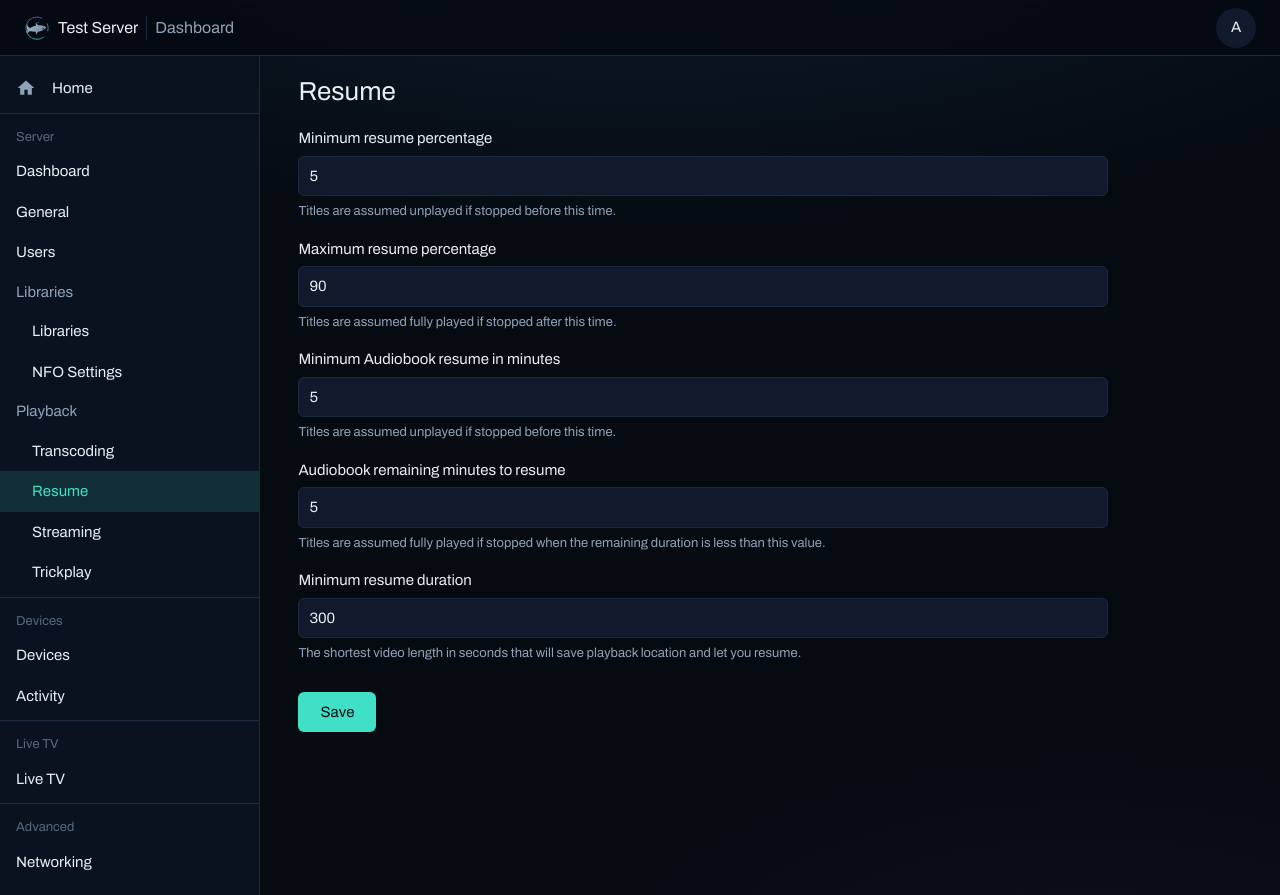
resume, streaming, trickplay › resume writes its fields into the stored server configuration
Replace the text in the number field labelled "Maximum resume percentage" with "95" at (703, 286), box [298,266,1108,306]
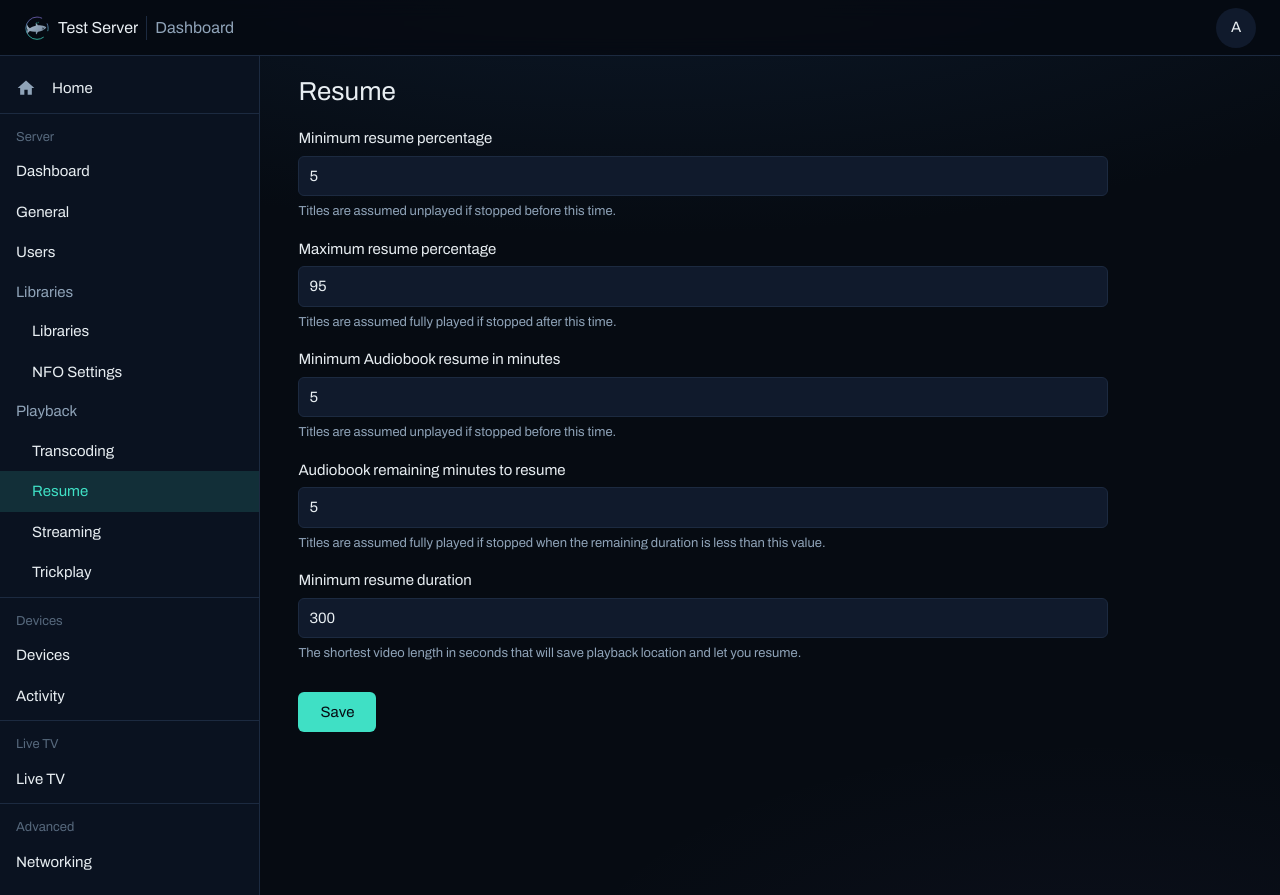
Click the button "Save" at (337, 712), box [298,692,376,732]
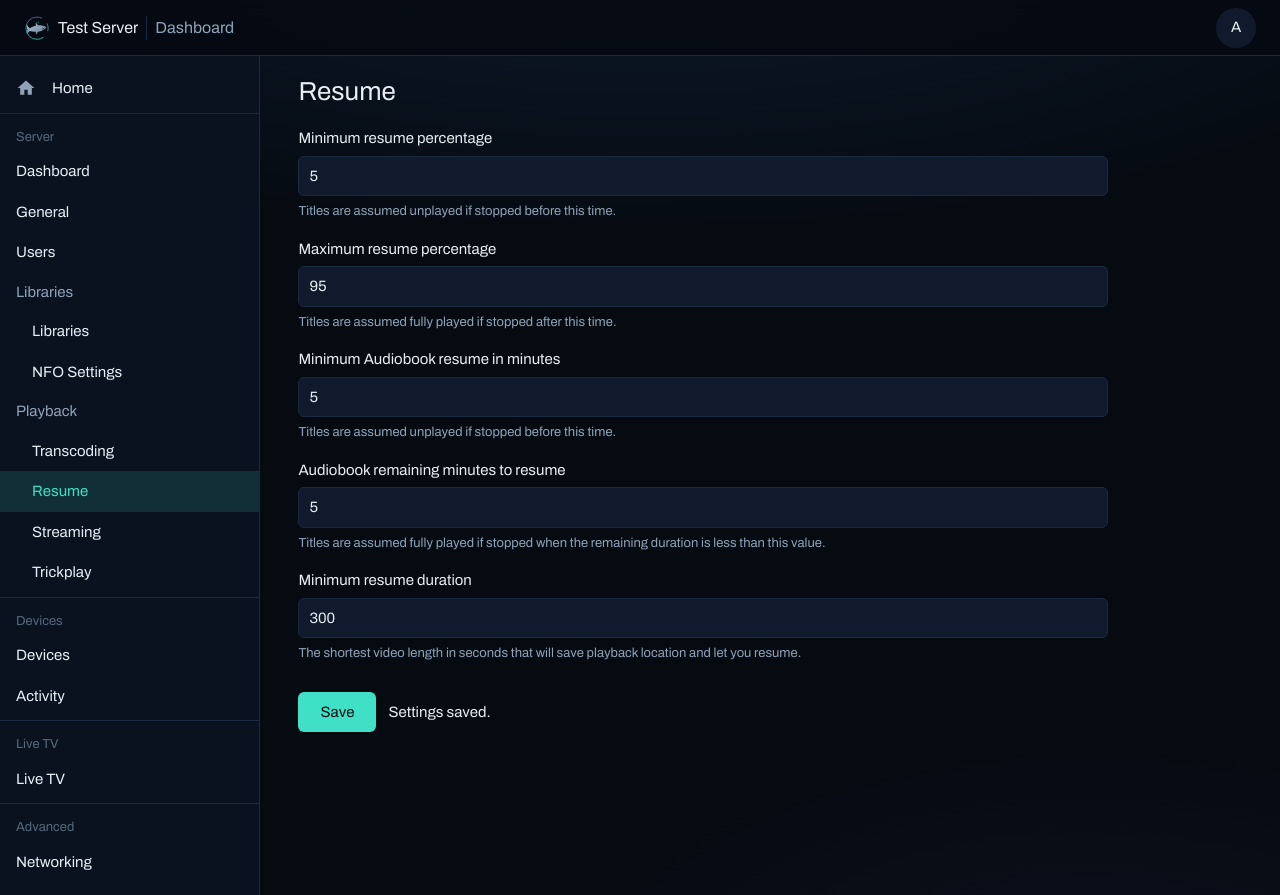
Now the text "Settings saved." is shown, box [388,700,491,723]
